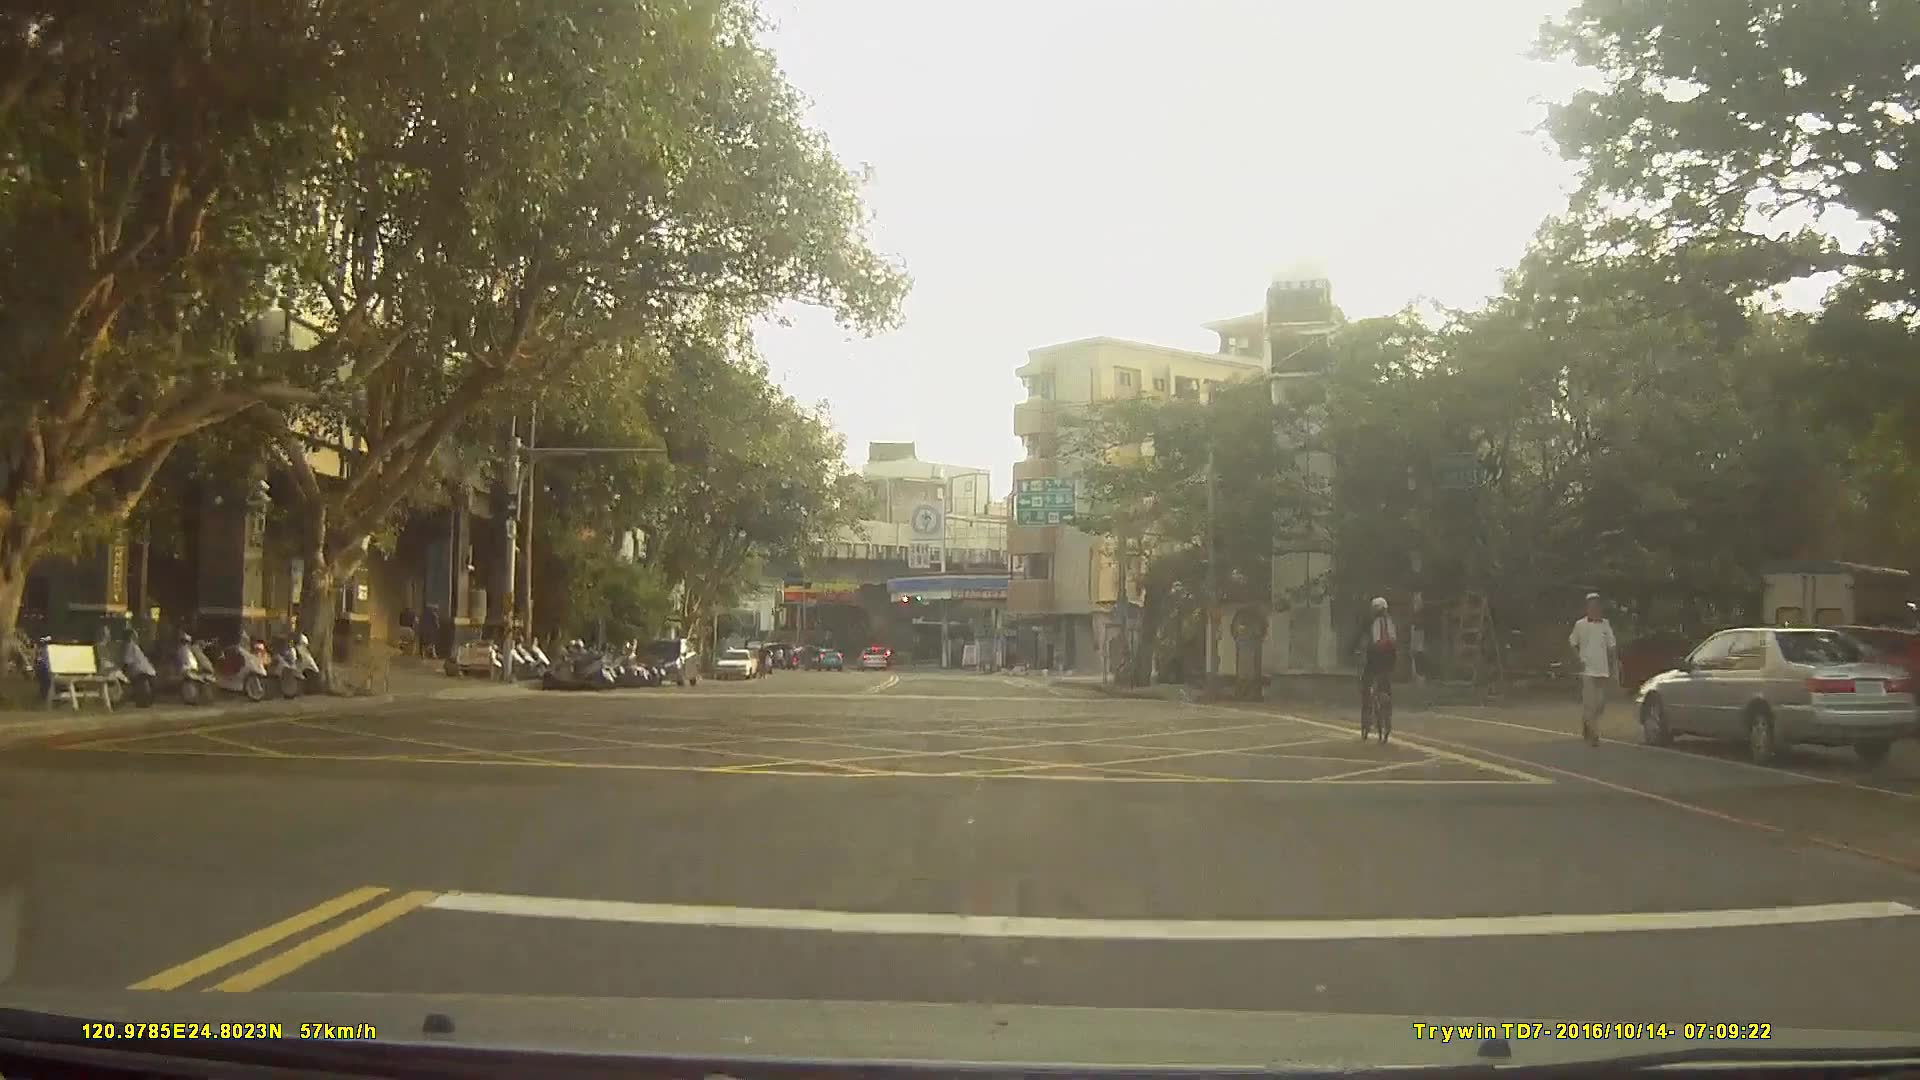pedestrian: (1565, 586, 1628, 748), (398, 599, 422, 658)
rider: (1349, 595, 1409, 739)
vehicle: (1633, 625, 1920, 767), (637, 635, 701, 687), (715, 644, 757, 678), (804, 644, 844, 669), (855, 643, 890, 669)
